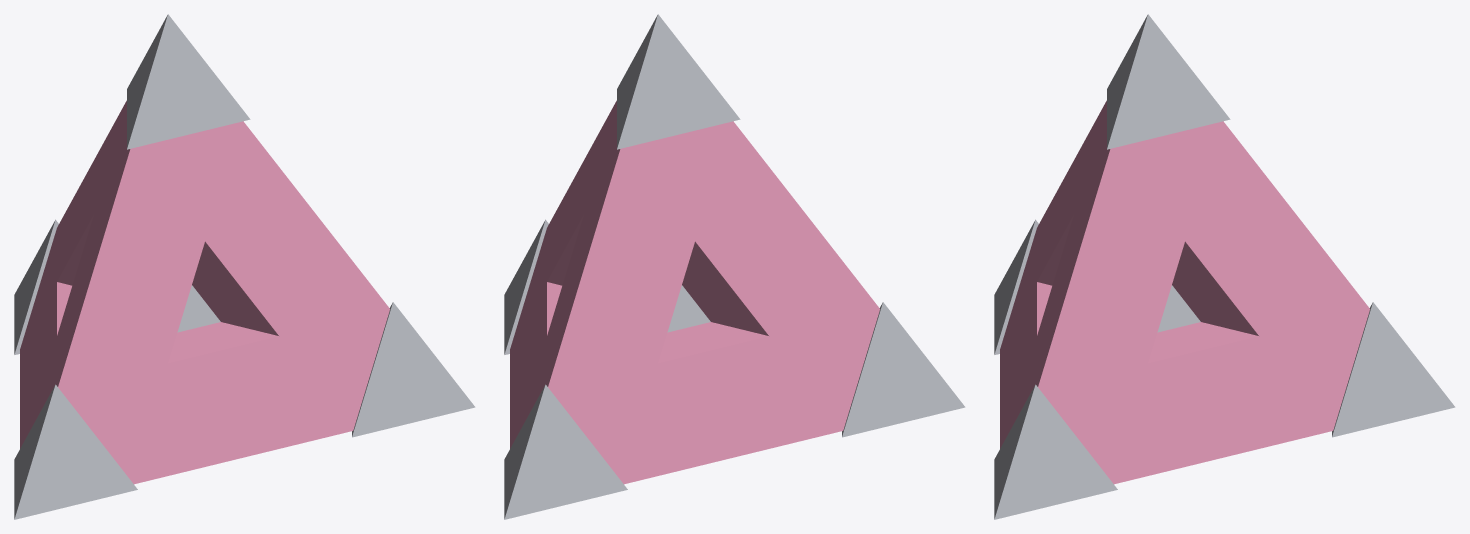
Rendered from HOLOCRON.fbx.
3 views of the same model, side by side, from view 1: azimuth 30°, elevation 25°; view 2: azimuth 150°, elevation 25°; view 3: azimuth 270°, elevation 25° (orthographic).
Parts seen in each view (by area): view 1: Cone; view 2: Cone; view 3: Cone.
Part boxes in pixels (x1,y1,x2,y2): Cone: (14,14,475,519); Cone: (504,14,965,519); Cone: (994,14,1455,519).
Size of the model in its own units: 29.05 by 23.67 by 25.16.
